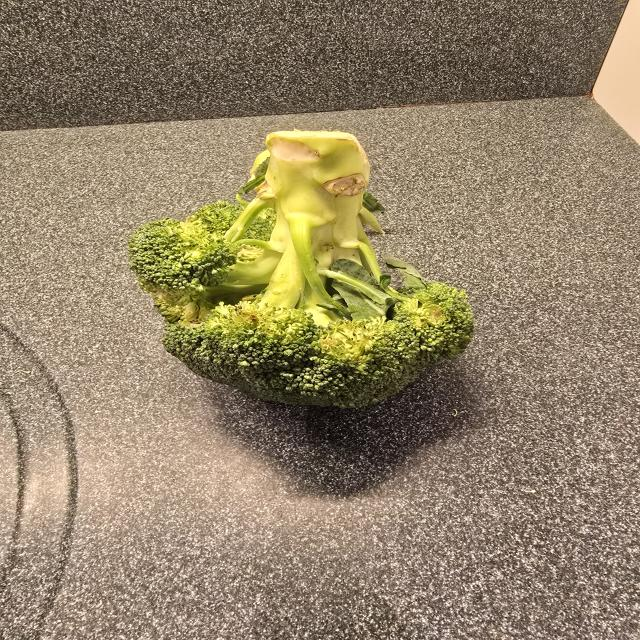Broccoli: (116, 121, 490, 415)
